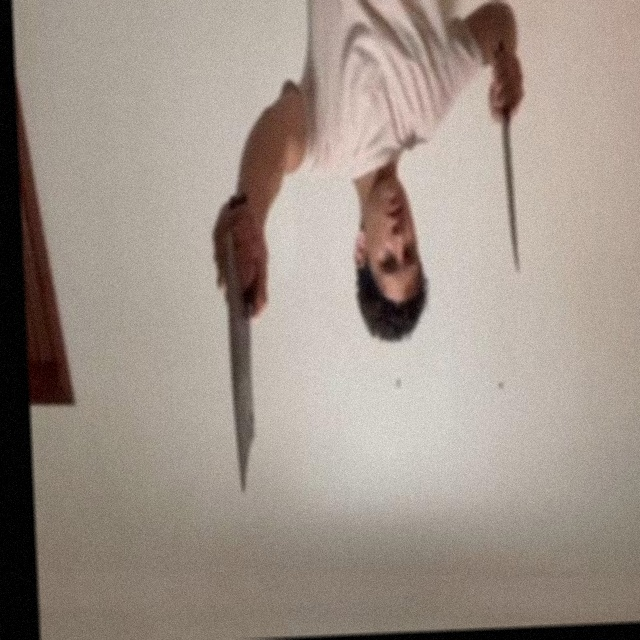Sharp-Object: (224, 268, 258, 495), (502, 116, 520, 273)
